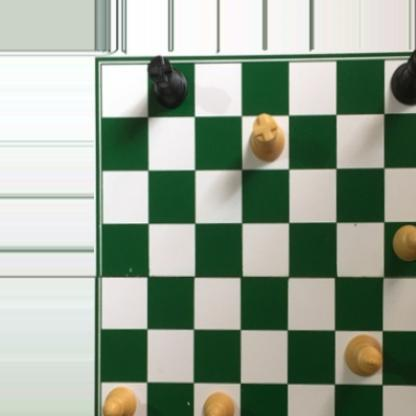black-king: (390, 50, 416, 110)
black-rook: (142, 50, 188, 110)
white-king: (343, 332, 383, 378)
white-pawn: (100, 384, 139, 416), (390, 223, 416, 263), (201, 388, 237, 416)
white-rook: (247, 112, 286, 164)
